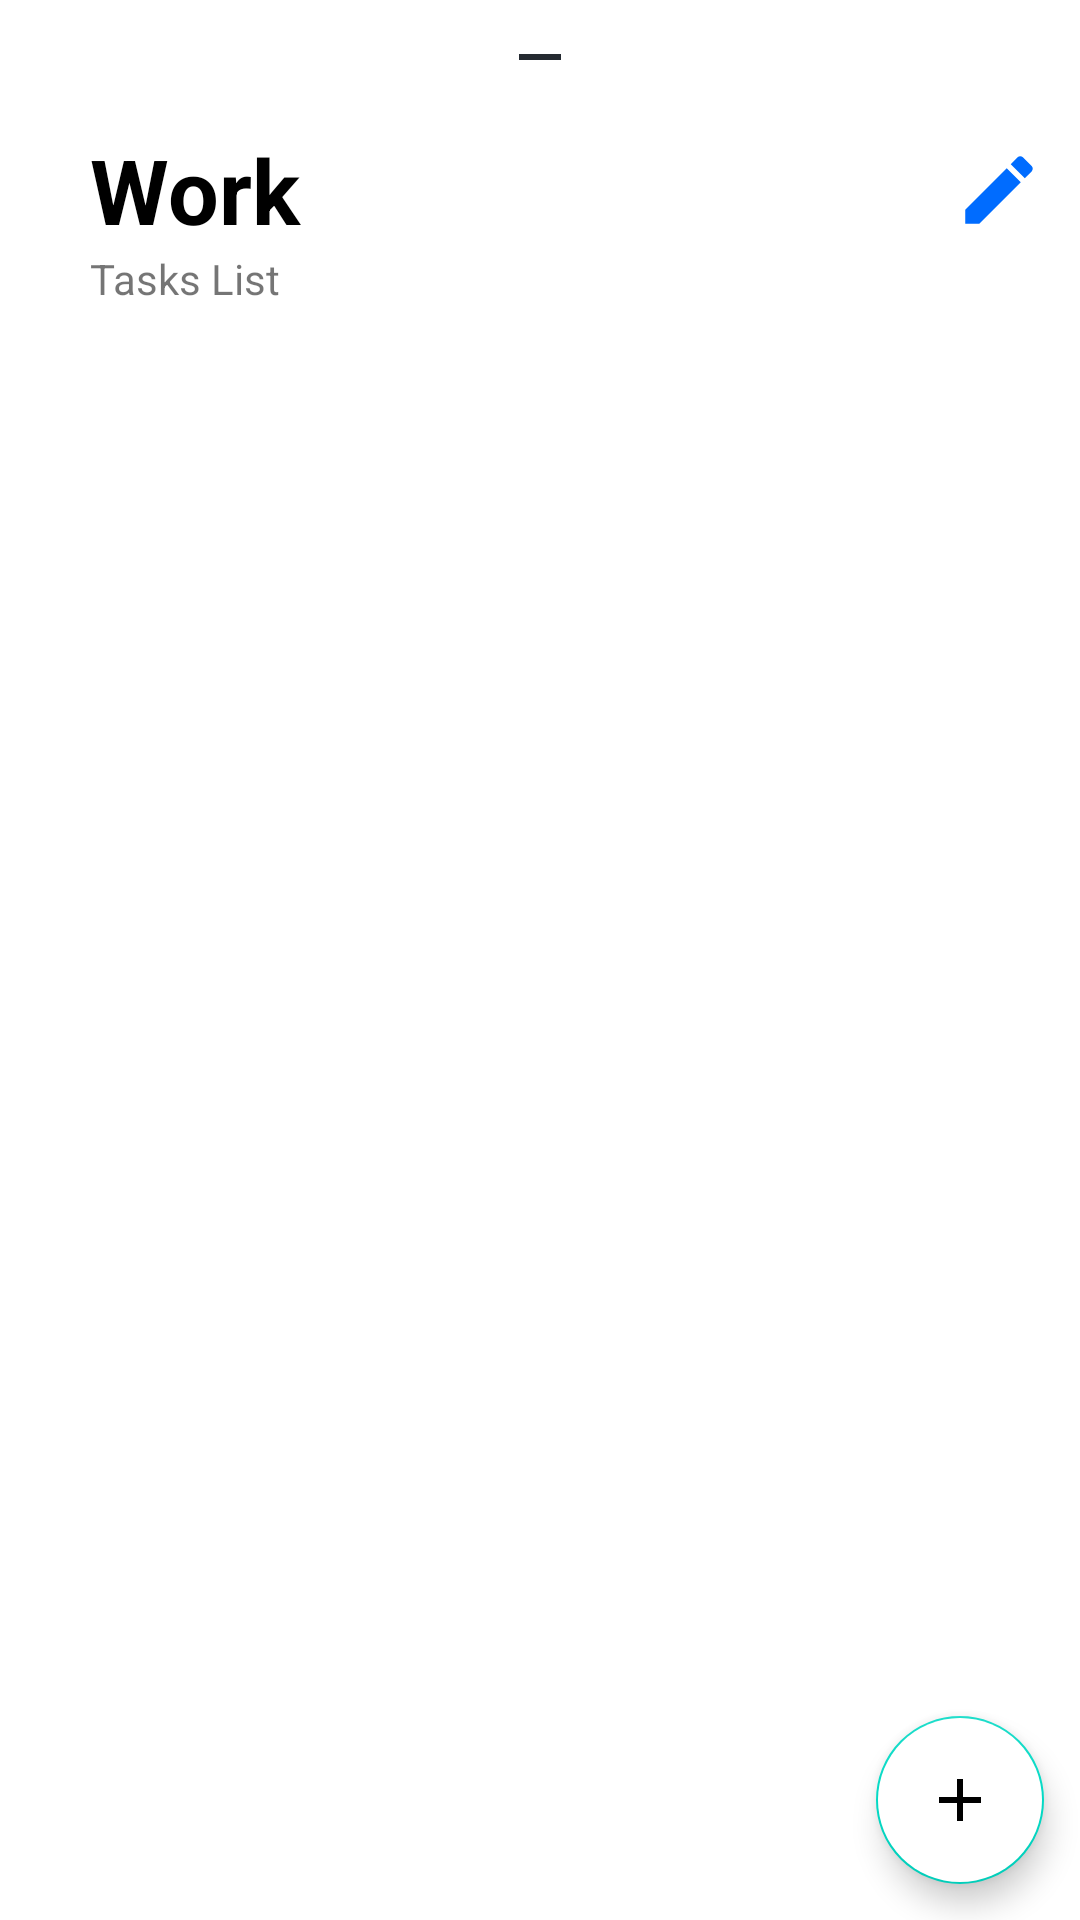

Where icons sit on this 1080*1920 app screen, as [x1=x1, y1=y1, x2=x2, y2=y2]:
add: [x1=876, y1=1716, x2=1044, y2=1884]
edit: [x1=965, y1=156, x2=1033, y2=224]
